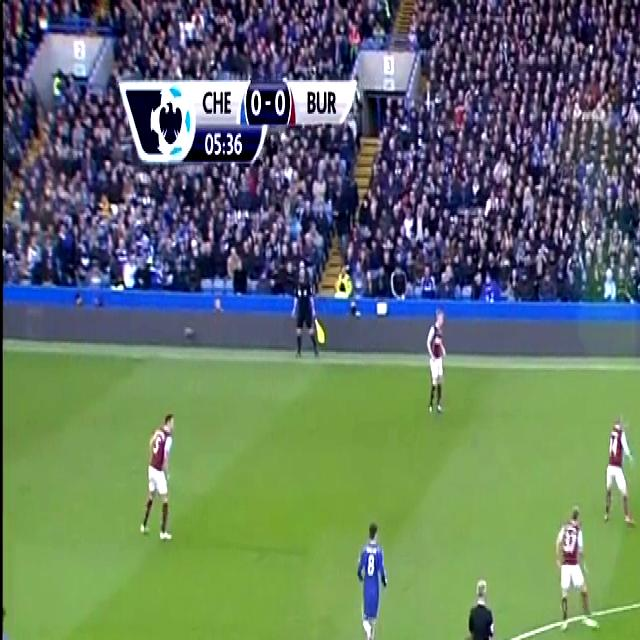referee: (283, 251, 329, 367), (458, 558, 505, 640)
soccer-player: (537, 501, 608, 640), (138, 397, 183, 557), (592, 405, 640, 530), (350, 515, 397, 640), (419, 304, 458, 421), (437, 633, 476, 640)
